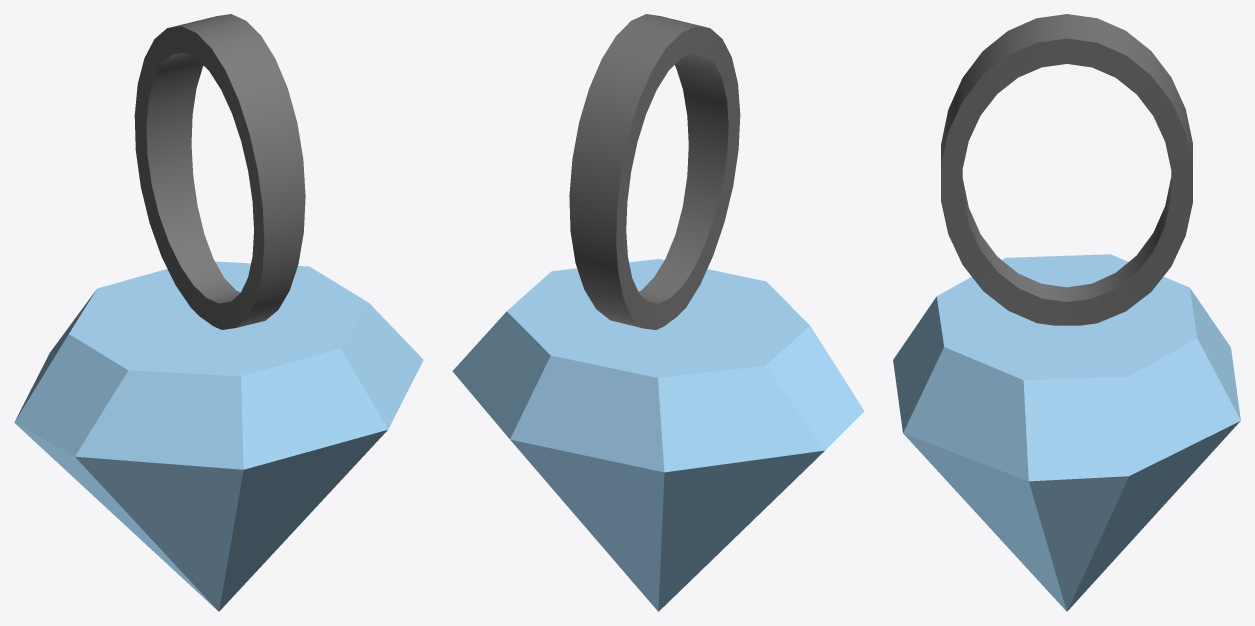
File: Diamond_Bead.fbx
3 renders of one model, left to right at view 1: azimuth 30°, elevation 25°; view 2: azimuth 150°, elevation 25°; view 3: azimuth 270°, elevation 25°, orthographic.
Visible parts, largest first — view 1: Diamond.001, Diamond; view 2: Diamond.001, Diamond; view 3: Diamond.001, Diamond.
Part boxes in pixels (x1,y1,x2,y2): Diamond.001: (14,261,423,611); Diamond: (134,14,305,329); Diamond.001: (452,259,864,611); Diamond: (569,14,740,329); Diamond.001: (893,254,1240,611); Diamond: (941,14,1192,325).
Size of the model in its own units: 37.19 by 55.9 by 30.03.
